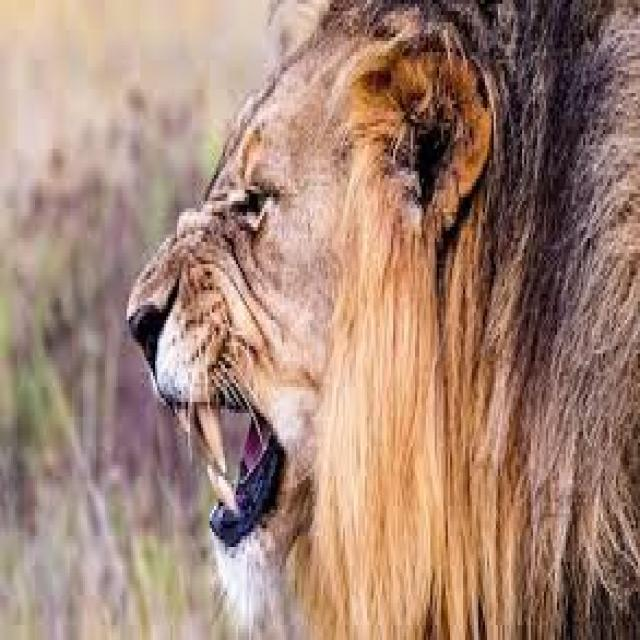Lion: (124, 0, 637, 636)
